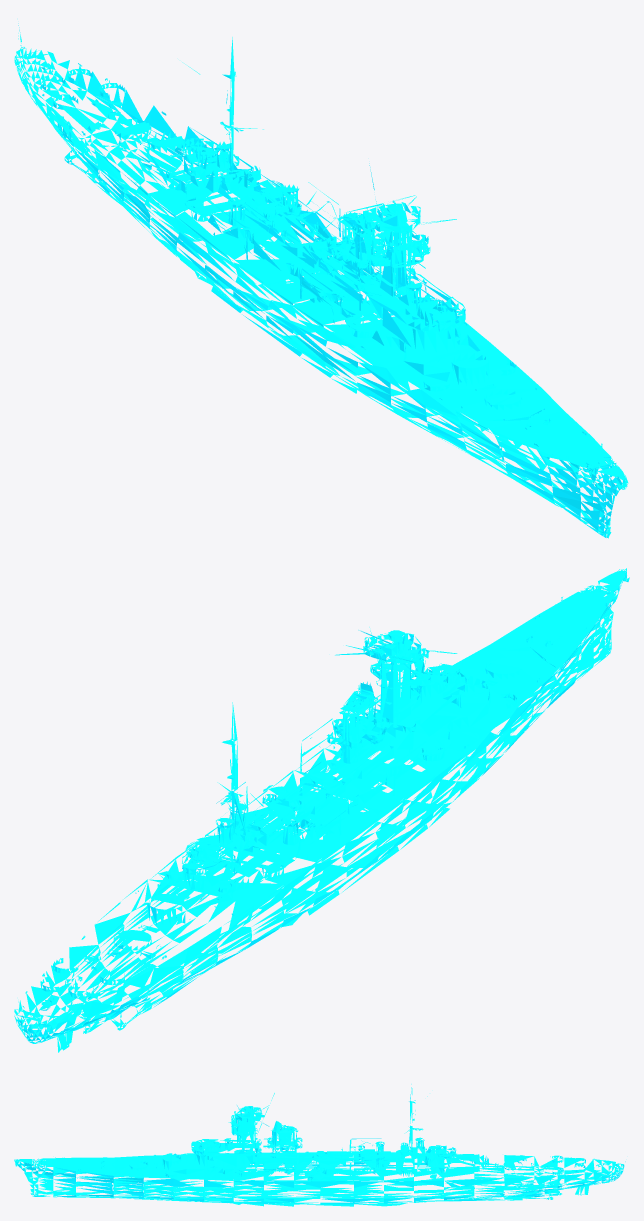
File: Bremen.glb
3 views of the same model, one above another, from view 1: azimuth 30°, elevation 25°; view 2: azimuth 150°, elevation 25°; view 3: azimuth 270°, elevation 25° (orthographic). The views are drawn at different scales.
Bounding box in the file's own units: 1.71 × 3.21 × 15.47.
